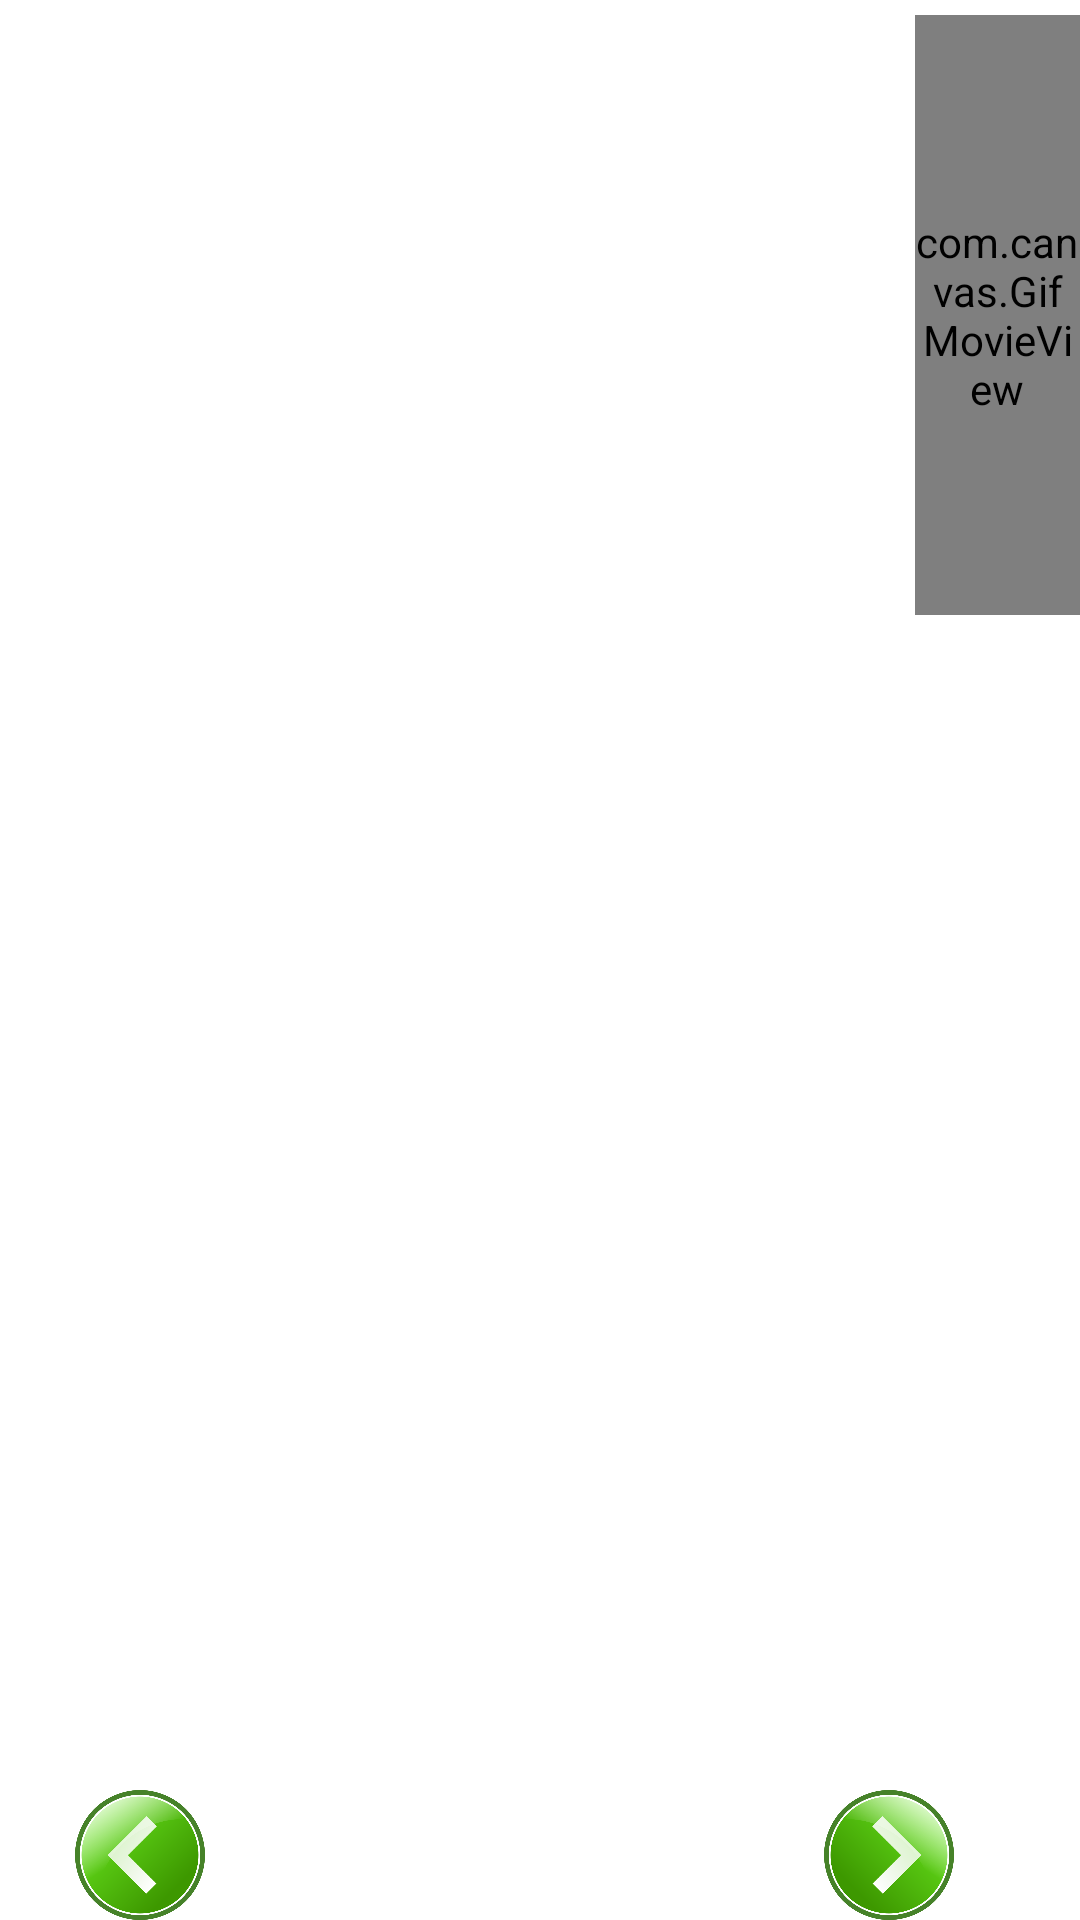

Screen size 1080*1920. Icon name, then its center in pixels as (x=x, y=y):
left: (x=140, y=1855)
right: (x=889, y=1855)
